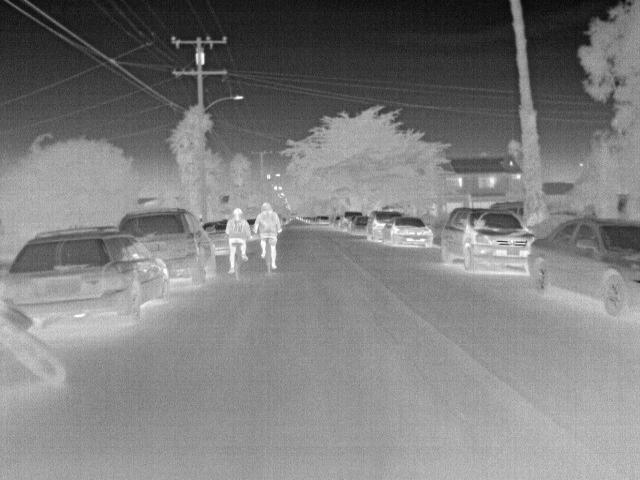car: (4, 226, 171, 322), (530, 214, 639, 316), (121, 206, 221, 288), (440, 208, 534, 273), (386, 218, 434, 250), (366, 211, 401, 244), (202, 218, 229, 256), (341, 210, 364, 231), (349, 216, 373, 236), (316, 214, 332, 225)
person: (227, 207, 254, 273), (258, 201, 282, 270)
